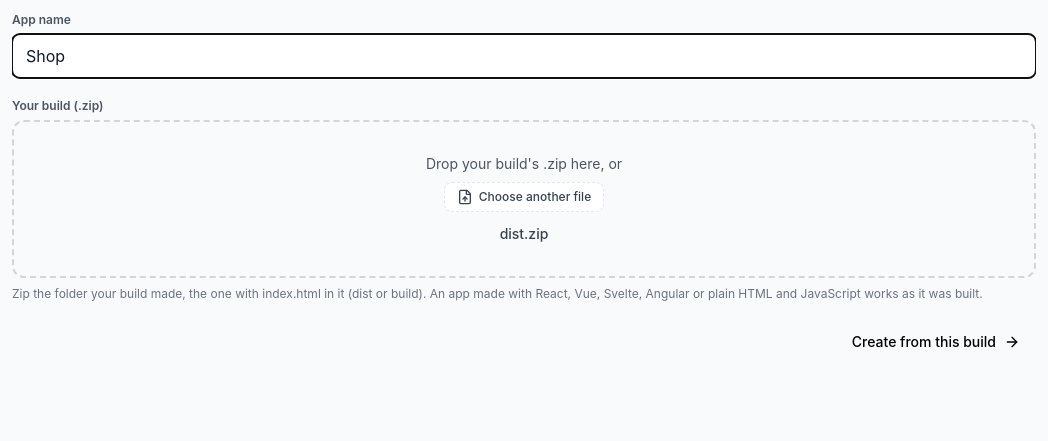
Scenario: SiteCreateForm › shows the server's refusal and leaves no app behind
Earlier steps of the test are not shown.
Click the button "Create from this build".
click(936, 342)  # box [836,324,1036,360]
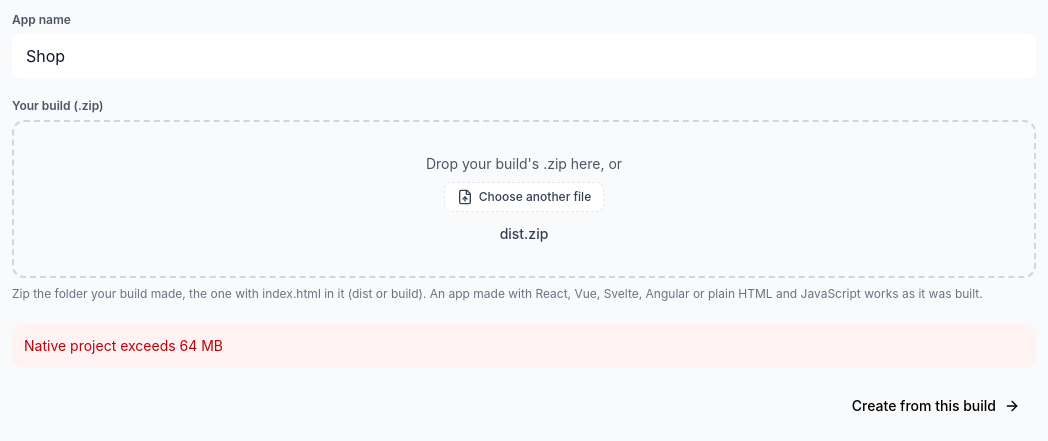
Check: the button "Create from this build" is enabled, box [836,388,1036,424]
Check: the message "Native project exceeds 64 MB" is shown, box [12,324,1036,368]
